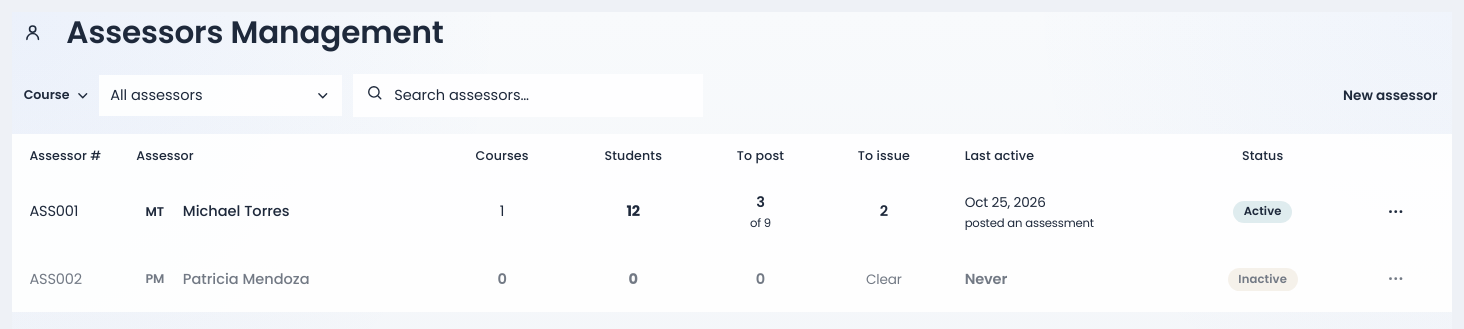
Test: AssessorsManagement — the students-list interface › renames the value half after the field it is now narrowing
Click the dropdown named "Choose what to filter assessors by". click: (56, 95)
box: [12,75,100,116]
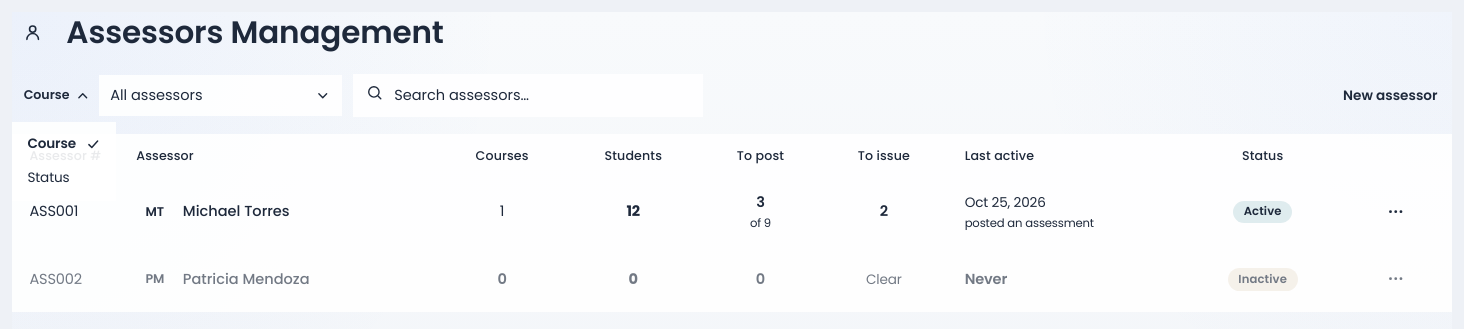
Press the mouse on the option "Status" at (48, 178), box [28,168,69,187]
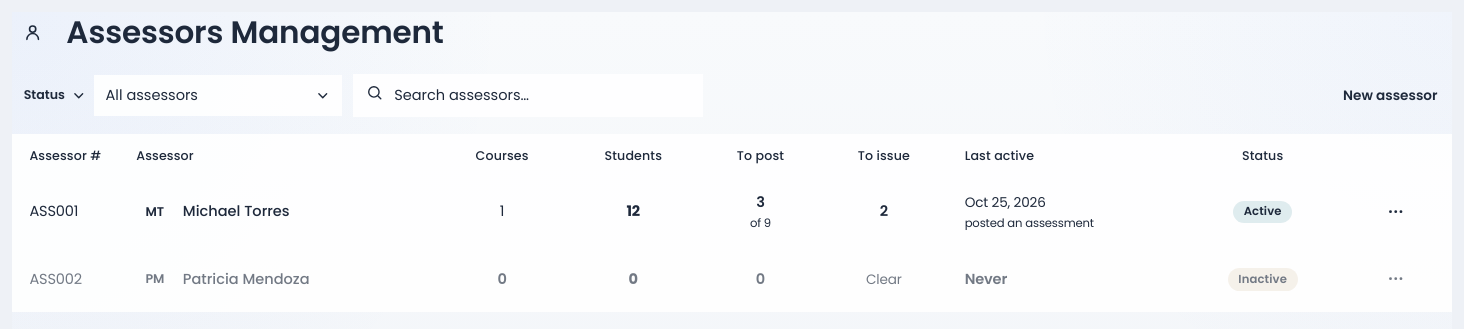
Check: the dropdown named "Filter assessors by status" is shown, box [94,75,342,116]
